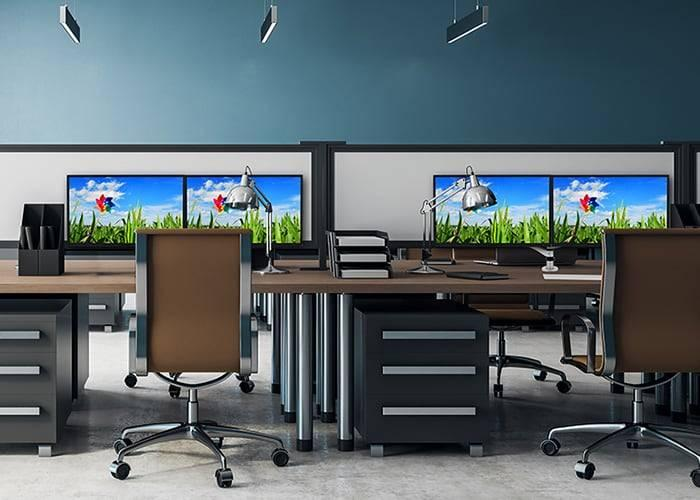monitor: (64, 172, 185, 259), (186, 174, 303, 253), (553, 173, 670, 250), (432, 173, 550, 249)
